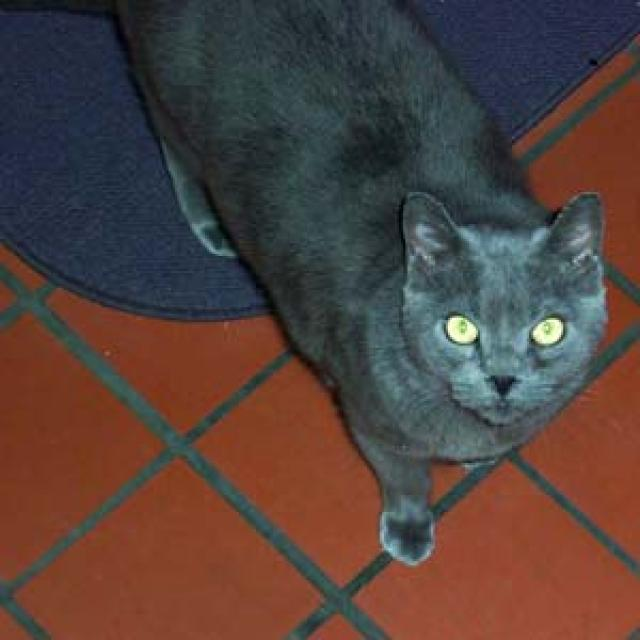Russian_Blue: (397, 181, 605, 424)
